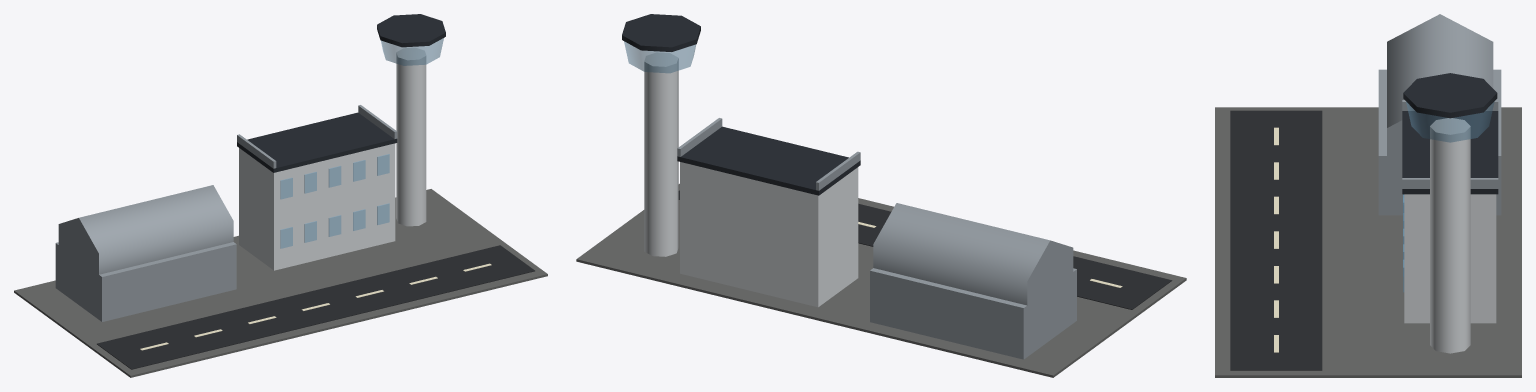
Rendered from bld_special_airport_a08_lod1.glb.
3 renders of one model, left to right at view 1: azimuth 30°, elevation 25°; view 2: azimuth 150°, elevation 25°; view 3: azimuth 270°, elevation 25°, orthographic. The views are drawn at different scales.
Visible parts, largest first — view 1: body; view 2: body; view 3: body.
Part boxes in pixels (bbox=[...]): body: bbox=[14, 14, 547, 377]; body: bbox=[576, 14, 1186, 377]; body: bbox=[1215, 14, 1521, 377].
Size of the model in its own units: 31 by 13.75 by 15.
